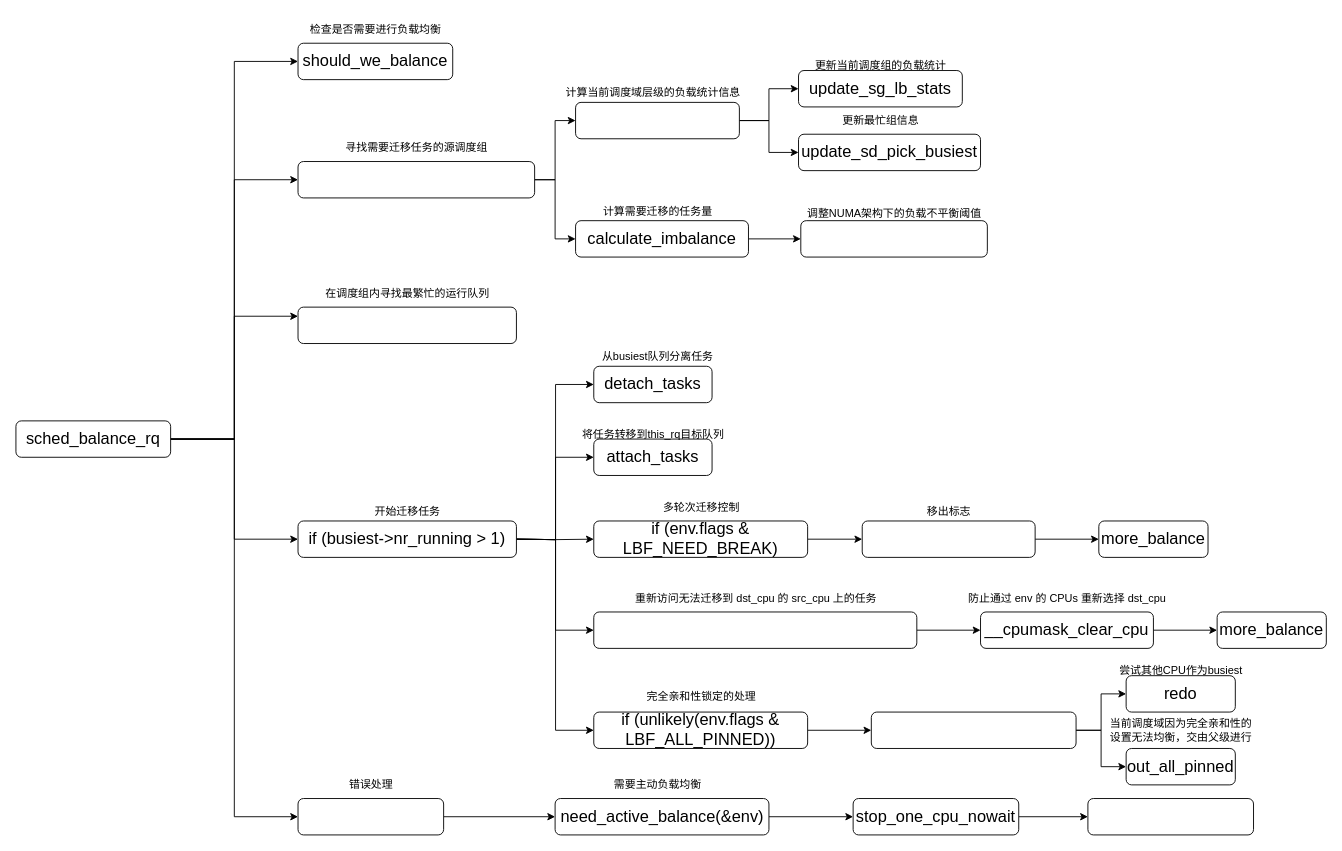
Image size: 1342x851. Some labels were removed from this diagram. Here are the shapes that lost their labels. From the top down, the centre of each, then its label:
At (x=657, y=120): "update_sd_lb_stats".
At (x=416, y=179): "sched_balance_find_src_group".
At (x=893, y=238): "adjust_numa_imbalance".
At (x=406, y=325): "sched_balance_find_src_rq".
At (x=948, y=538): "env.flags &= ~LBF_NEED_BREAK".
At (x=755, y=629): "if ((env.flags & LBF_DST_PINNED) && env.imbalance > 0)".
At (x=973, y=729): "if (!cpumask_subset(cpus, env.dst_grpmask))".
At (x=370, y=816): "if (!ld_moved)".
At (x=1170, y=816): "migrate_task".
